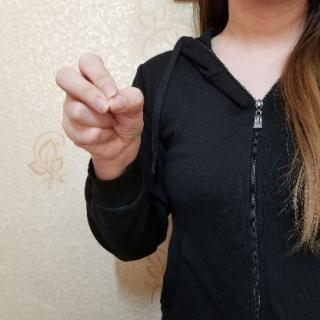QAAF: (52, 49, 150, 168)
